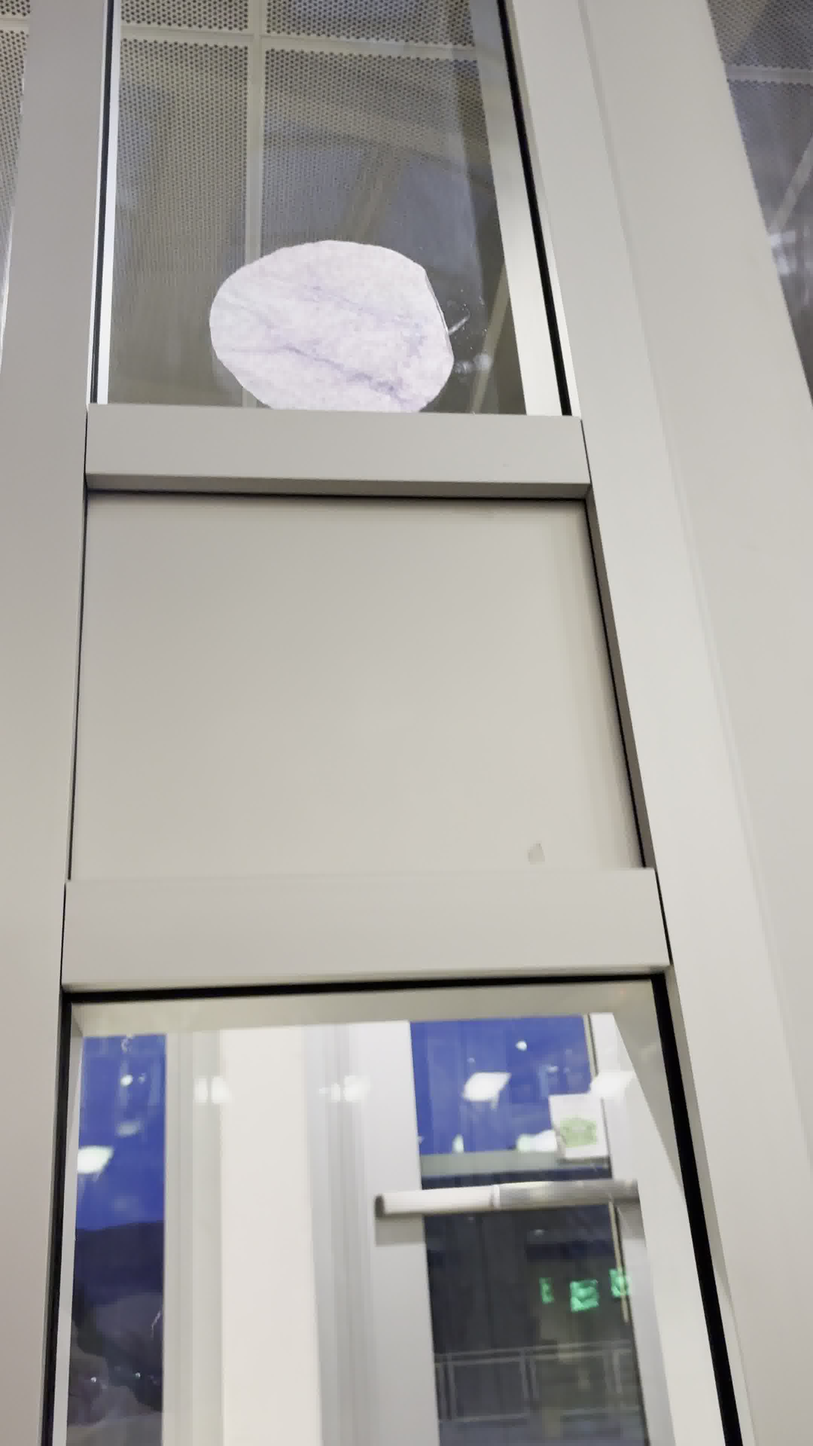Target: (205, 235, 460, 424)
